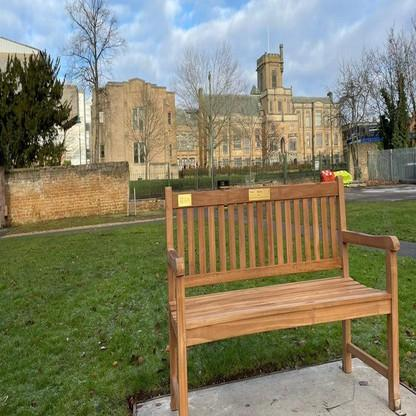obstacle: (151, 175, 405, 414)
